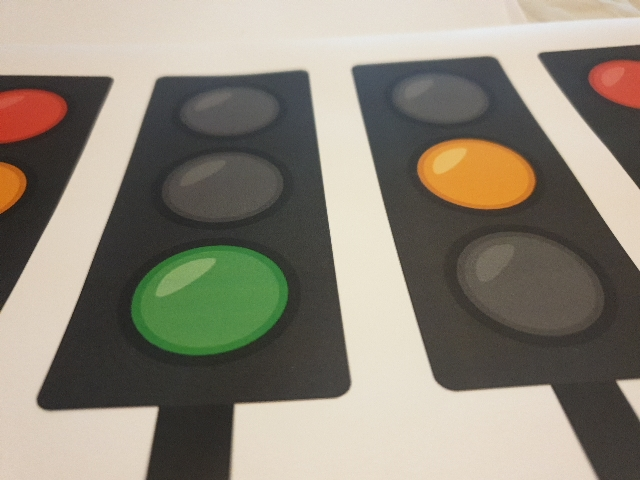amber: (378, 68, 532, 351)
green: (173, 81, 298, 364)
